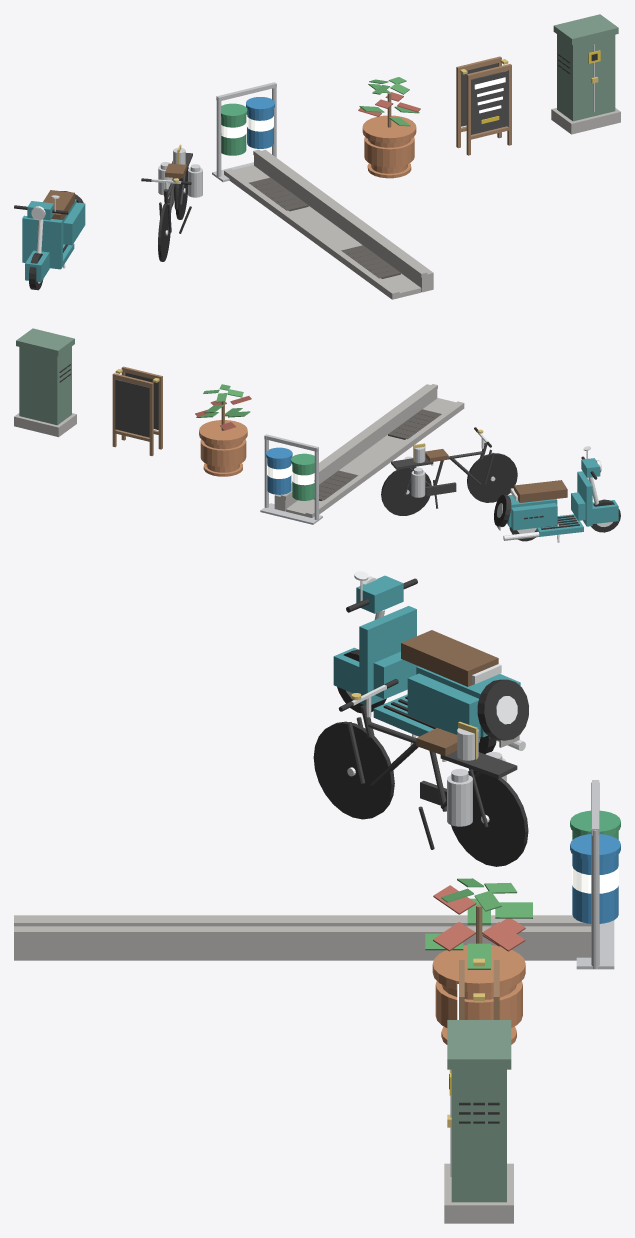
The model's file is prop_market_street_pack_01.glb.
3 renders of one model, top to bottom at view 1: azimuth 30°, elevation 25°; view 2: azimuth 150°, elevation 25°; view 3: azimuth 270°, elevation 25°, orthographic. The views are drawn at different scales.
Visible parts, largest first — view 1: Feeder_Cabinet.004, Drain_Curb_Stone.004, Drain_Road_Border.004, Drain_Gutter_Bed.004, Sign_Chalkboard_Panel_F.004, Drain_Curb_Chamfer.004, Scooter_Legshield_Main.005, Feeder_Roof_Overhang.004, Planter_Rim_Lip.004, Planter_Belly.004, Feeder_Plinth.004, Drain_Grate_Frame_-1.005 (+10 smaller); view 2: Feeder_Cabinet.004, Drain_Curb_Stone.004, Bike_Front_Tire.004, Drain_Road_Border.004, Sign_Chalkboard_Panel_B.004, Drain_Gutter_Bed.004, Bike_Rear_Tire.004, Drain_Curb_Chamfer.004, Scooter_Cowl_Right.005, Feeder_Roof_Overhang.004, Planter_Rim_Lip.004, Scooter_Seat.005 (+23 smaller); view 3: Drain_Curb_Stone.004, Feeder_Cabinet.004, Bike_Front_Tire.004, Drain_Curb_Chamfer.004, Bike_Rear_Tire.004, Feeder_Roof_Overhang.004, Scooter_Seat.005, Scooter_Cowl_Left.005, Scooter_Legshield_Main.005, Planter_Rim_Lip.004, Scooter_Spare_Tire.005, Planter_Belly.004 (+13 smaller).
Boxes of the visible parts, x1=… form: Feeder_Cabinet.004: x1=557, y1=34, x2=615, y2=121; Drain_Curb_Stone.004: x1=254, y1=150, x2=433, y2=292; Drain_Road_Border.004: x1=224, y1=169, x2=399, y2=299; Drain_Gutter_Bed.004: x1=233, y1=165, x2=421, y2=298; Sign_Chalkboard_Panel_F.004: x1=471, y1=70, x2=508, y2=134; Drain_Curb_Chamfer.004: x1=253, y1=149, x2=427, y2=277; Scooter_Legshield_Main.005: x1=22, y1=215, x2=62, y2=266; Feeder_Roof_Overhang.004: x1=553, y1=14, x2=618, y2=44; Planter_Rim_Lip.004: x1=362, y1=115, x2=416, y2=143; Planter_Belly.004: x1=364, y1=137, x2=414, y2=167; Feeder_Plinth.004: x1=551, y1=108, x2=620, y2=134; Drain_Grate_Frame_-1.005: x1=341, y1=245, x2=400, y2=278; Feeder_Cabinet.004: x1=19, y1=346, x2=71, y2=425; Drain_Curb_Stone.004: x1=274, y1=384, x2=437, y2=511; Bike_Front_Tire.004: x1=467, y1=453, x2=517, y2=502; Drain_Road_Border.004: x1=305, y1=401, x2=464, y2=517; Sign_Chalkboard_Panel_B.004: x1=115, y1=379, x2=149, y2=437; Drain_Gutter_Bed.004: x1=286, y1=398, x2=455, y2=516; Bike_Rear_Tire.004: x1=381, y1=467, x2=431, y2=515; Drain_Curb_Chamfer.004: x1=280, y1=384, x2=437, y2=499; Scooter_Cowl_Right.005: x1=511, y1=503, x2=557, y2=530; Feeder_Roof_Overhang.004: x1=16, y1=328, x2=74, y2=356; Planter_Rim_Lip.004: x1=199, y1=420, x2=247, y2=445; Scooter_Seat.005: x1=514, y1=480, x2=567, y2=502; Drain_Curb_Stone.004: x1=14, y1=926, x2=591, y2=960; Feeder_Cabinet.004: x1=451, y1=1069, x2=506, y2=1202; Bike_Front_Tire.004: x1=313, y1=721, x2=394, y2=819; Drain_Curb_Chamfer.004: x1=14, y1=918, x2=591, y2=926; Bike_Rear_Tire.004: x1=451, y1=770, x2=528, y2=866; Feeder_Roof_Overhang.004: x1=447, y1=1020, x2=511, y2=1069; Scooter_Seat.005: x1=401, y1=630, x2=498, y2=686; Scooter_Cowl_Left.005: x1=407, y1=673, x2=480, y2=736; Scooter_Legshield_Main.005: x1=359, y1=606, x2=416, y2=705; Planter_Rim_Lip.004: x1=432, y1=945, x2=525, y2=992; Scooter_Spare_Tire.005: x1=477, y1=679, x2=528, y2=740; Planter_Belly.004: x1=435, y1=981, x2=522, y2=1027.
Size of what is drawn, in the model's own units: 8.54 by 1.25 by 4.17.
